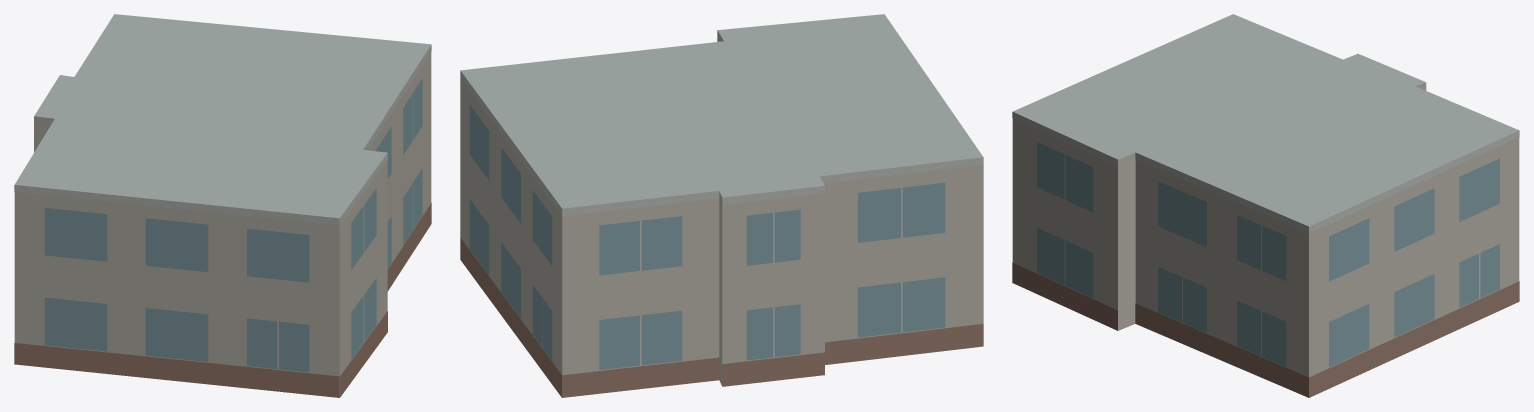
The model's file is survey-upis-32892502.glb.
The picture shows the model from 3 angles, left to right: view 1: azimuth 30°, elevation 25°; view 2: azimuth 150°, elevation 25°; view 3: azimuth 270°, elevation 25°; orthographic projection. The views are drawn at different scales.
Parts seen in each view (by area): view 1: survey-upis-32892502.tmp; view 2: survey-upis-32892502.tmp; view 3: survey-upis-32892502.tmp.
Part boxes in pixels (x1,y1,x2,y2): survey-upis-32892502.tmp: [14, 14, 431, 397]; survey-upis-32892502.tmp: [460, 14, 983, 397]; survey-upis-32892502.tmp: [1012, 14, 1519, 397].
Size of the model in its own units: 16.24 by 6.1 by 16.37.
